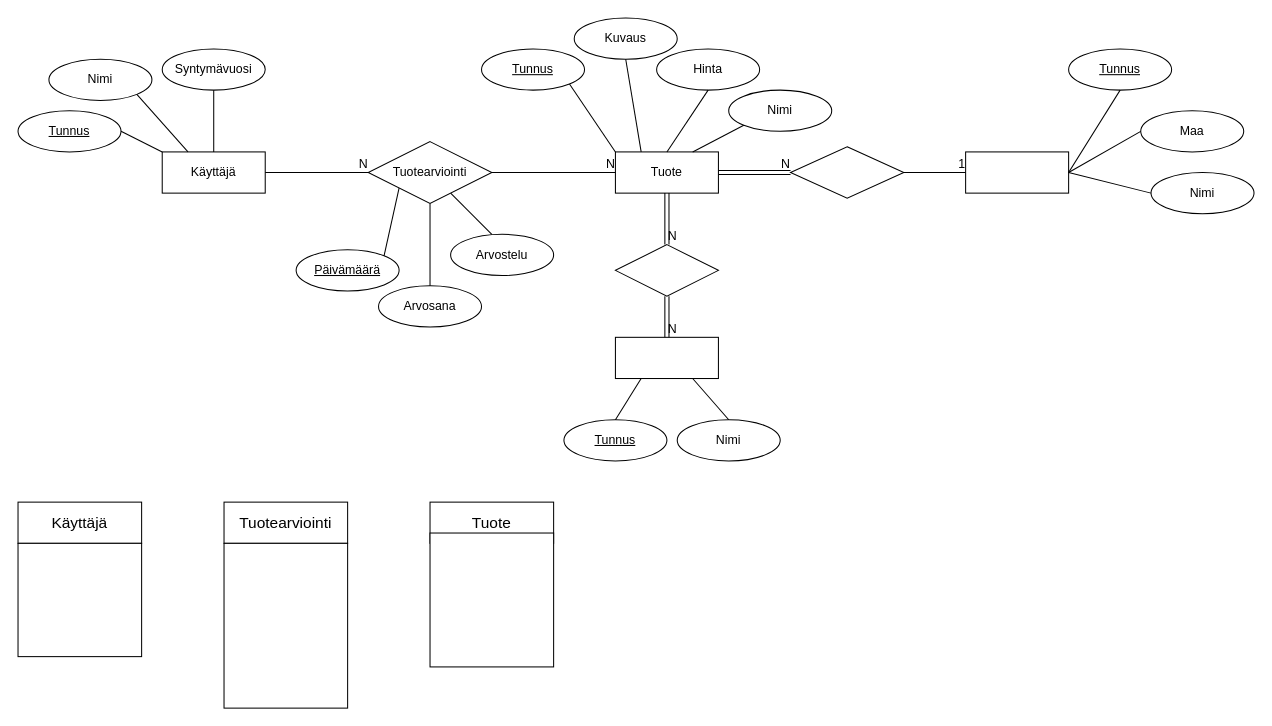
Image size: 1272x726. Some labels were removed from this diagram. The shapes that lost their labels are listed below. From the top down, each one's box as (x1, y1, x2, y2) in pixels, then its label:
(789, 146, 904, 198): Kuuluu
(965, 151, 1069, 193): Tuotemerkki
(614, 244, 718, 296): Sijoittuu
(614, 336, 718, 379): Kategoria
(17, 542, 142, 657): tunnus pk nimi syntymävuosi
(429, 532, 554, 667): tunnus pk
(223, 542, 348, 708): k.tunnus pk fk t.tunnus pk fk päivämäärä pk arvosana arvostelu
